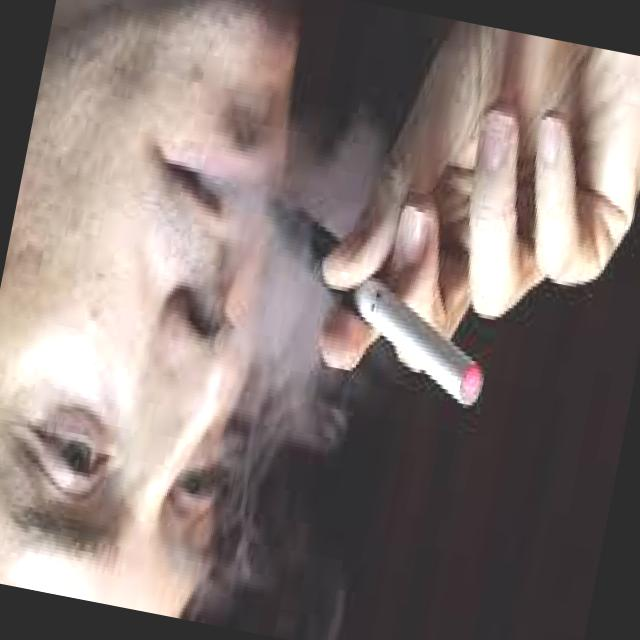cigarette: (320, 245, 520, 468)
